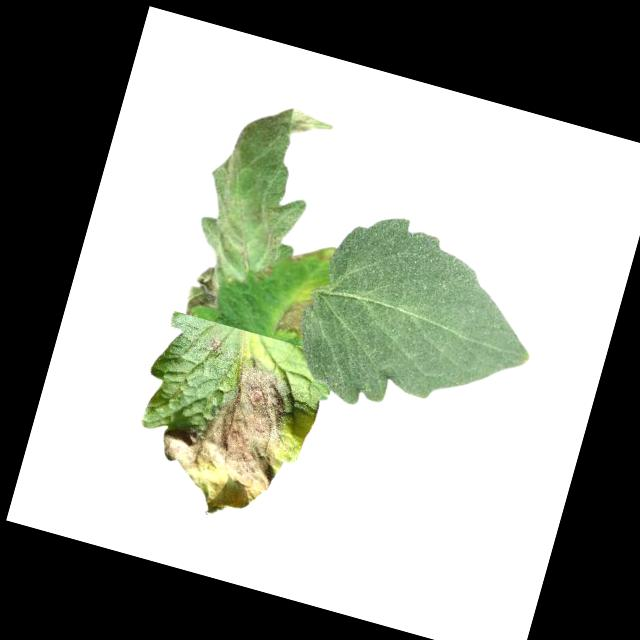Late_blight: (163, 84, 336, 302), (145, 343, 326, 538), (179, 261, 226, 319), (275, 290, 315, 337), (203, 334, 224, 356)
